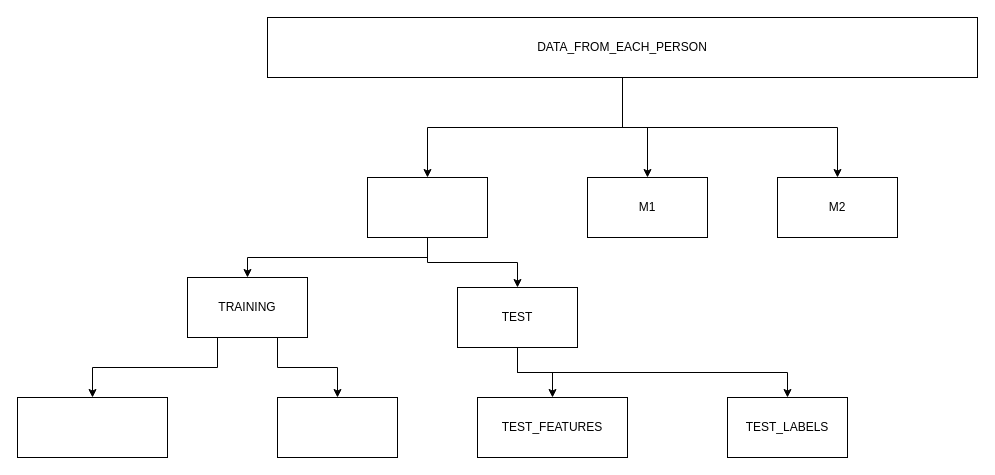
Some shapes in this 995 by 475 pixel diagram are drawn without their labels. Each missing label, with the box of its shape:
F1: (366, 176, 488, 238)
TRAINING_FEATURES: (16, 396, 168, 458)
TRAINING_LABELS: (276, 396, 398, 458)
